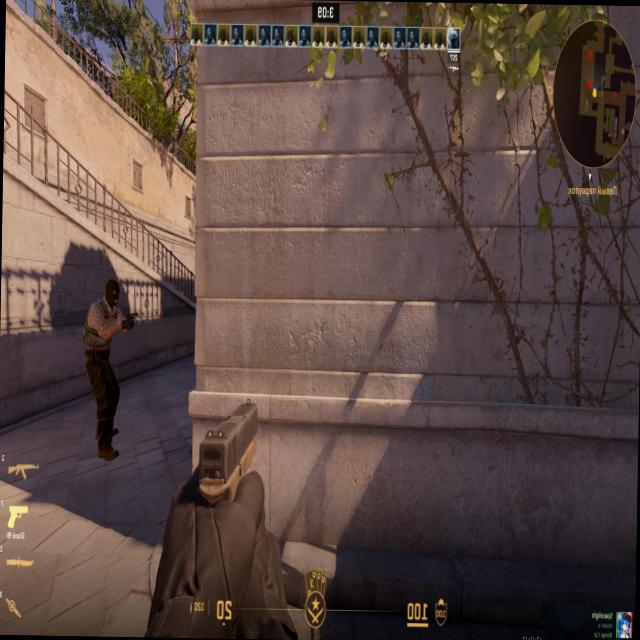T: (88, 276, 118, 446)
T_heat: (98, 297, 114, 316)
